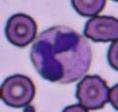N: (32, 24, 92, 82)
